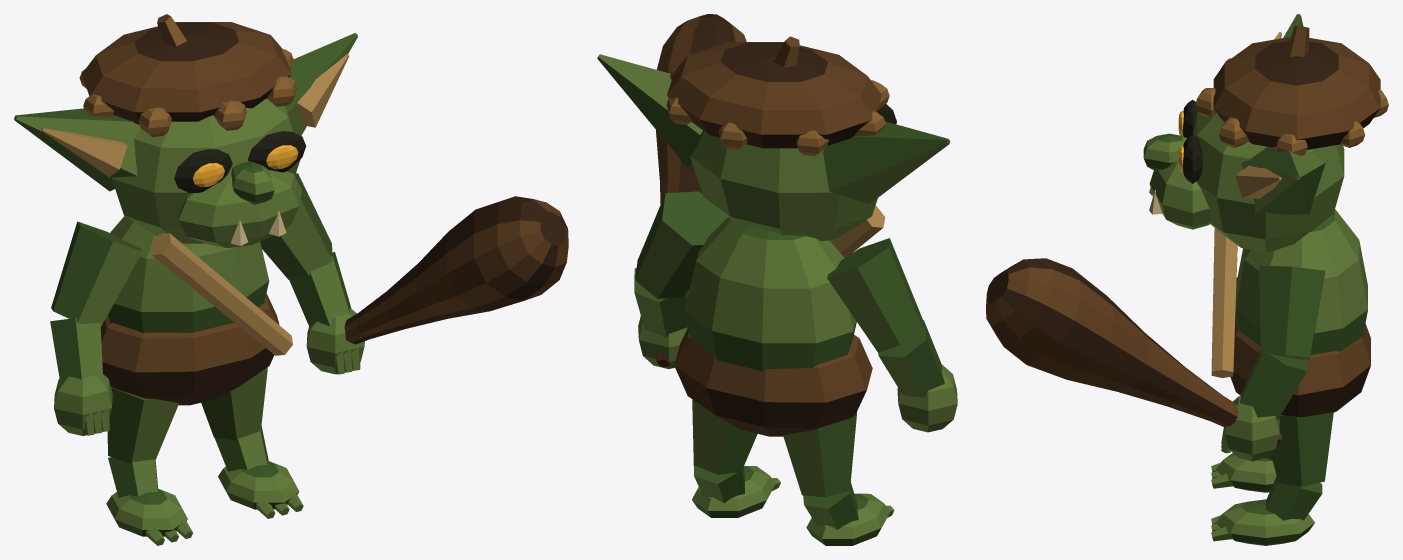
The model's file is Bramblekin.fbx.
3 views of the same model, side by side, from view 1: azimuth 30°, elevation 25°; view 2: azimuth 150°, elevation 25°; view 3: azimuth 270°, elevation 25° (orthographic). The views are drawn at different scales.
Visible parts, largest first — view 1: Head, Body, Club, Arm.L, Arm.R, Leg.L, Foot.L, Foot.R, Leg.R, Shin.L, Shin.R; view 2: Head, Body, Arm.L, Arm.R, Club, Leg.L, Leg.R, Foot.L, Foot.R, Shin.L, Shin.R; view 3: Head, Club, Body, Arm.R, Leg.R, Foot.R, Foot.L, Shin.R.
Boxes of the visible parts, x1,y1,x2,y2 form: Head: (14,14,357,248); Body: (100,216,292,405); Club: (344,196,568,344); Arm.L: (50,221,142,435); Arm.R: (260,173,364,374); Leg.L: (107,387,178,463); Foot.L: (106,488,192,545); Foot.R: (218,461,303,518); Leg.R: (201,367,267,440); Shin.L: (108,457,157,497); Shin.R: (214,426,268,471); Head: (597,36,950,240); Body: (674,205,885,436); Arm.L: (827,238,957,432); Arm.R: (634,191,727,369); Club: (654,14,746,367); Leg.L: (783,412,856,497); Leg.R: (692,399,757,474); Foot.L: (806,493,894,545); Foot.R: (692,466,780,517); Shin.L: (803,482,858,529); Shin.R: (693,465,744,503); Head: (1143,14,1388,251); Club: (986,258,1281,445); Body: (1211,209,1370,417); Arm.R: (1221,265,1324,461); Leg.R: (1271,412,1333,486); Foot.R: (1211,499,1314,545); Foot.L: (1211,453,1276,492); Shin.R: (1265,476,1322,520).
Size of the model in its own units: 140 by 160 by 122.
